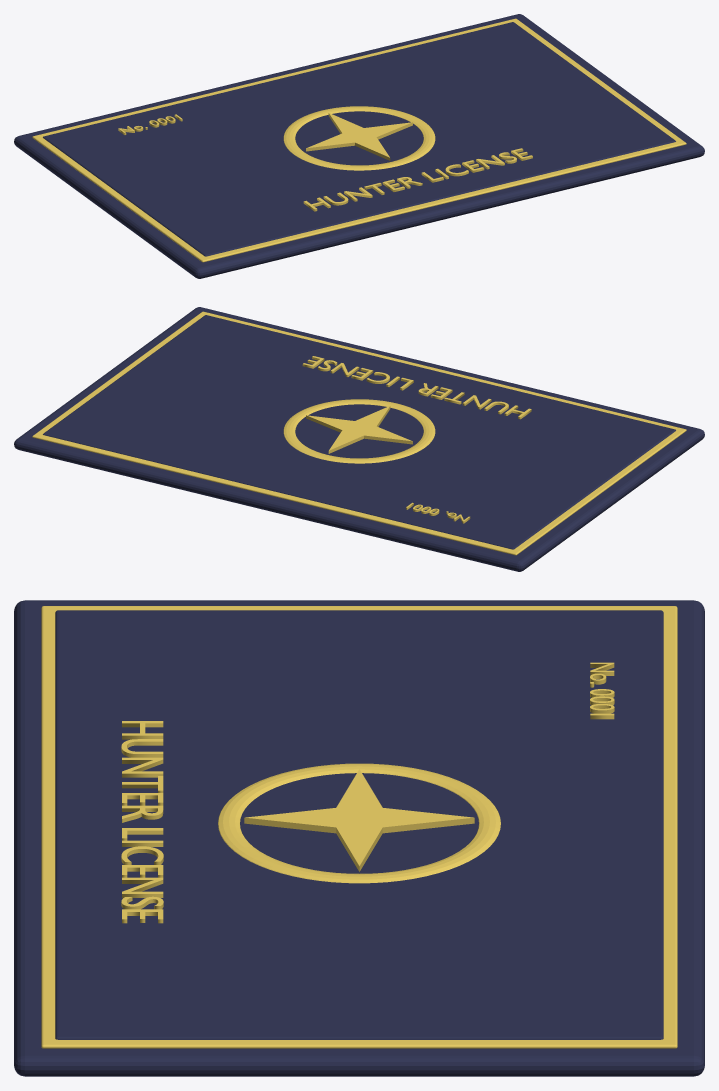
The model's file is license.glb.
3 renders of one model, top to bottom at view 1: azimuth 30°, elevation 25°; view 2: azimuth 150°, elevation 25°; view 3: azimuth 270°, elevation 25°, orthographic. The views are drawn at different scales.
Parts seen in each view (by area): view 1: frame_in, body, frame, emblem_ring, title, emblem_star; view 2: frame_in, body, frame, emblem_ring, title, emblem_star; view 3: frame_in, body, frame, emblem_ring, title, emblem_star, no.
Part boxes in pixels (x1,y1,x2,y2): frame_in: (43, 22, 675, 256); body: (14, 14, 704, 278); frame: (32, 18, 686, 262); emblem_ring: (283, 106, 435, 170); title: (303, 148, 532, 211); emblem_star: (306, 113, 412, 160); frame_in: (43, 315, 675, 549); body: (14, 307, 704, 571); frame: (32, 311, 686, 555); emblem_ring: (283, 399, 435, 463); title: (302, 356, 531, 419); emblem_star: (306, 406, 412, 453); frame_in: (55, 610, 663, 1039); body: (14, 600, 704, 1076); frame: (41, 606, 677, 1048); emblem_ring: (218, 763, 500, 883); title: (121, 721, 163, 923); emblem_star: (244, 769, 474, 871); no: (590, 662, 614, 719).
Size of the model in its own units: 1 by 0.031 by 0.63.
